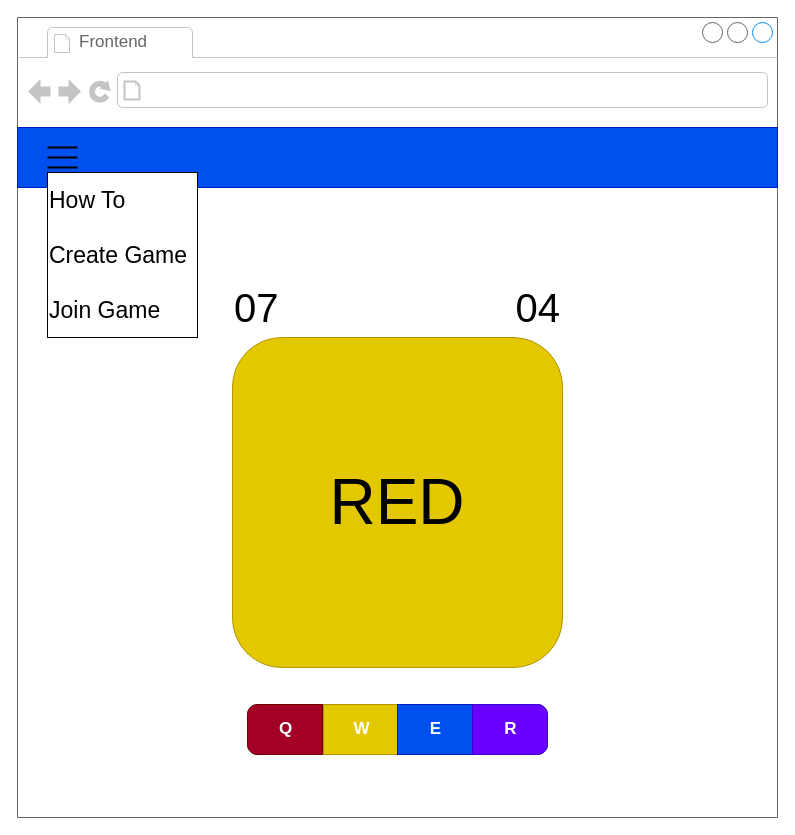
The diagram is 795 pixels wide and 835 high, and some of its shapes have lost their labels. Each missing label, with the centre of its shape:
"2 Player Reaction" belongs at [397,157].
"localhost:4200" belongs at [272,90].
